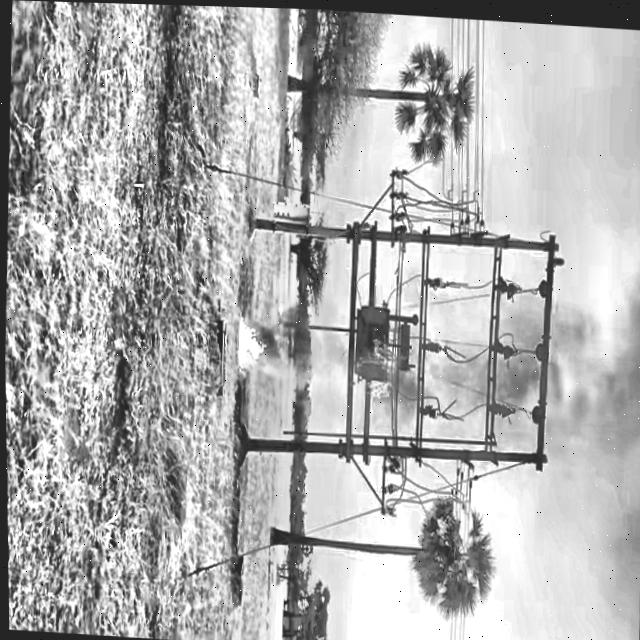Fire: (347, 321, 412, 412), (224, 300, 270, 388)
